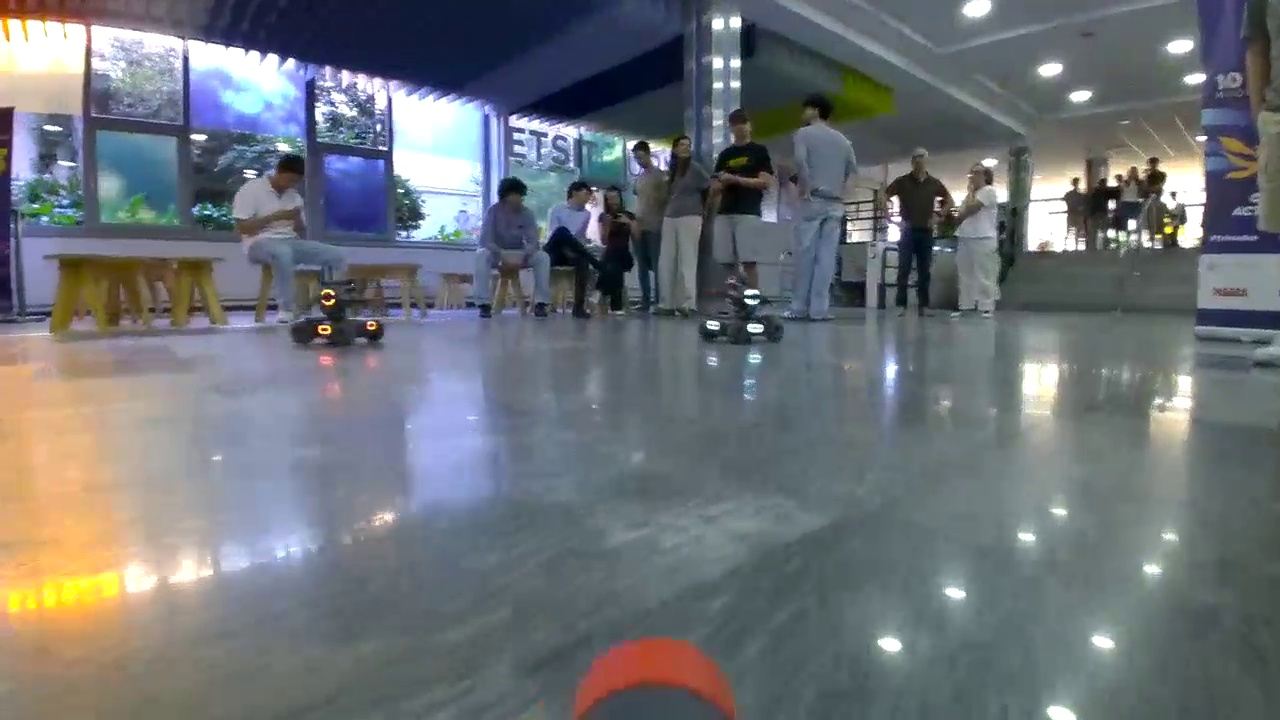robot: (290, 287, 385, 342), (700, 282, 785, 340)
